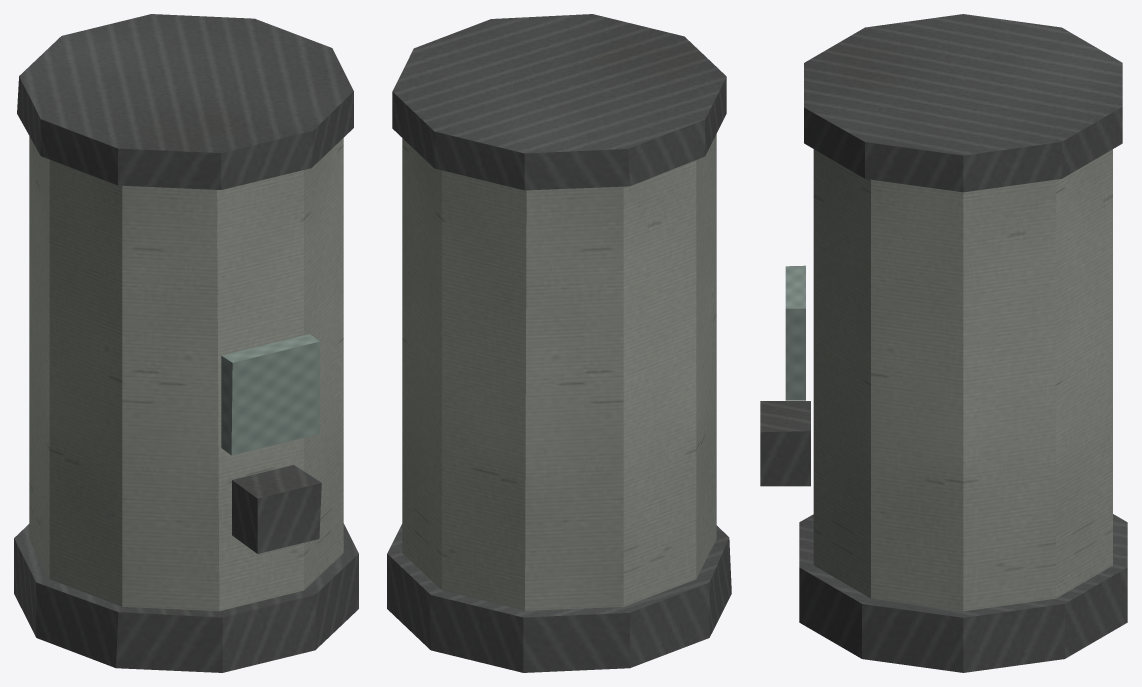
File: coffeemachine_v3.glb
3 views of the same model, side by side, from view 1: azimuth 30°, elevation 25°; view 2: azimuth 150°, elevation 25°; view 3: azimuth 270°, elevation 25° (orthographic).
Visible parts, largest first — view 1: Variant_coffeemachine_3; view 2: Variant_coffeemachine_3; view 3: Variant_coffeemachine_3.
Boxes of the visible parts, x1,y1,x2,y2 form: Variant_coffeemachine_3: [14, 14, 358, 672]; Variant_coffeemachine_3: [387, 14, 731, 672]; Variant_coffeemachine_3: [760, 14, 1127, 672].
Size of the model in its own units: 0.34 by 0.56 by 0.3617.
Materials: 3 (3 with a texture image).
